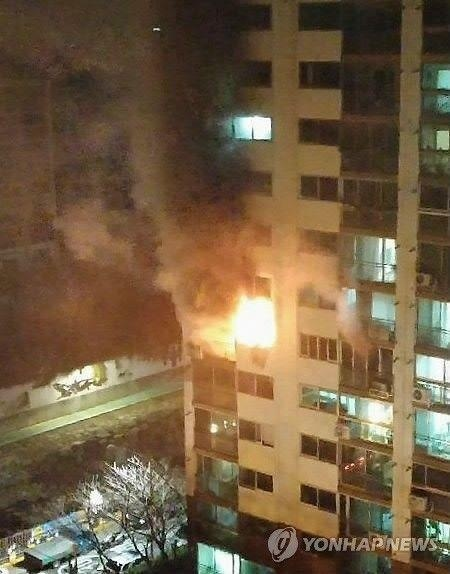fire: (225, 293, 278, 350)
